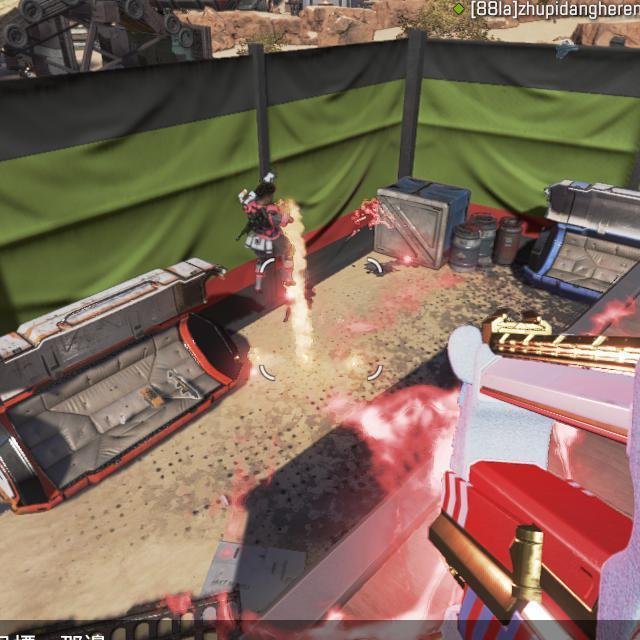avatar: (234, 178, 297, 293)
